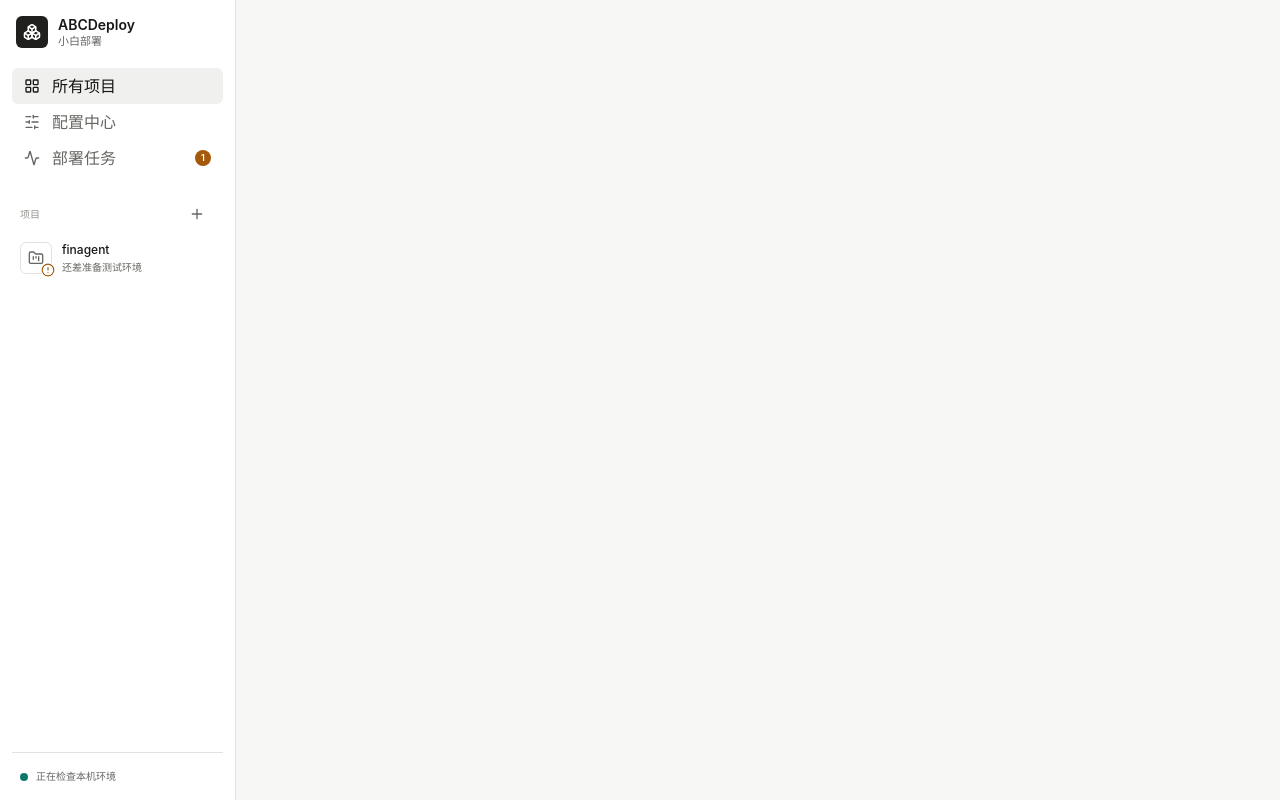
Test case: AppShell multi-project workspace › surfaces an interrupted early setup step without provider terminology
Check: the button "finagent 还差准备测试环境" is shown, box [12,236,223,280]
Click the button "部署任务 1". click: point(118, 158)
box: [12,140,223,176]
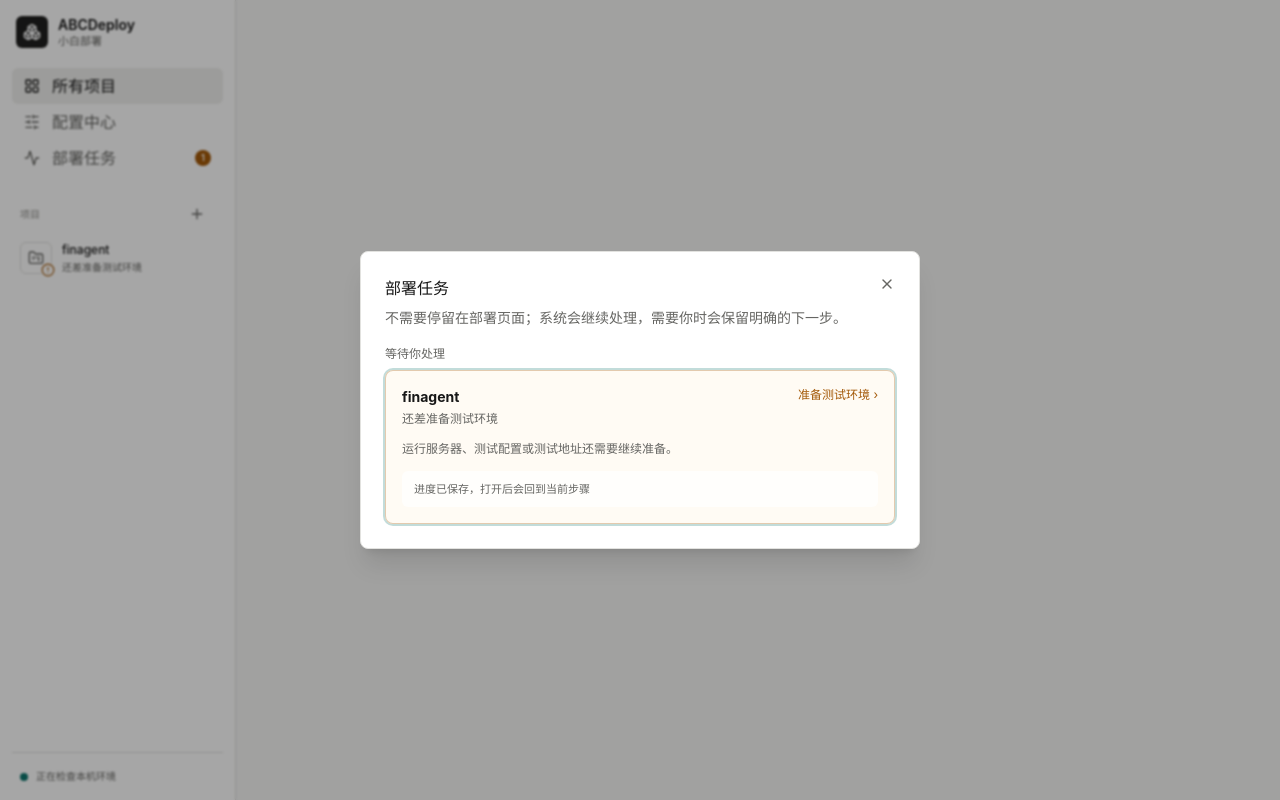
Check: the text "运行服务器、测试配置或测试地址还需要继续准备。" is shown, box [402,441,678,456]
Check: the text "准备测试环境 ›" is shown, box [798,387,878,403]
